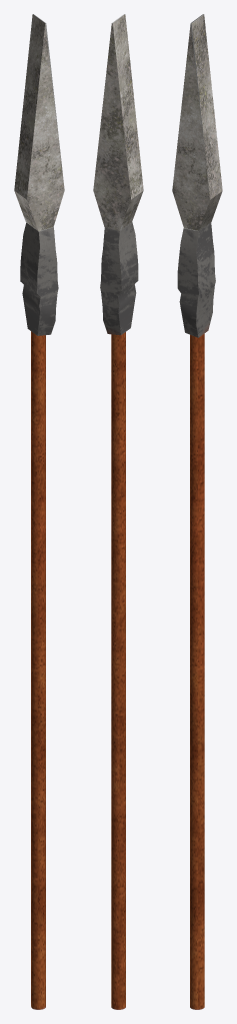
Rendered from ColorSpear.fbx.
3 views of the same model, side by side, from view 1: azimuth 30°, elevation 25°; view 2: azimuth 150°, elevation 25°; view 3: azimuth 330°, elevation 25° (orthographic).
Parts seen in each view (by area): view 1: Handle2, Stone1, Cloth1; view 2: Handle2, Stone1, Cloth1; view 3: Handle2, Stone1, Cloth1.
Part boxes in pixels (left/top/right/bottom): Handle2: left=31, top=331, right=45, bottom=1009; Stone1: left=14, top=14, right=64, bottom=231; Cloth1: left=20, top=223, right=58, bottom=335; Handle2: left=111, top=332, right=125, bottom=1009; Stone1: left=93, top=14, right=143, bottom=231; Cloth1: left=100, top=222, right=138, bottom=335; Handle2: left=190, top=334, right=204, bottom=1009; Stone1: left=172, top=14, right=222, bottom=230; Cloth1: left=177, top=222, right=215, bottom=337.
Size of the model in its own units: 8.76 by 219 by 6.74.
